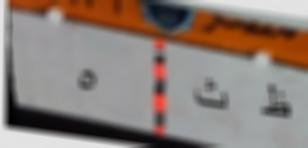Thaa: (257, 80, 295, 123)
thaa: (190, 75, 231, 113), (74, 62, 100, 98)
